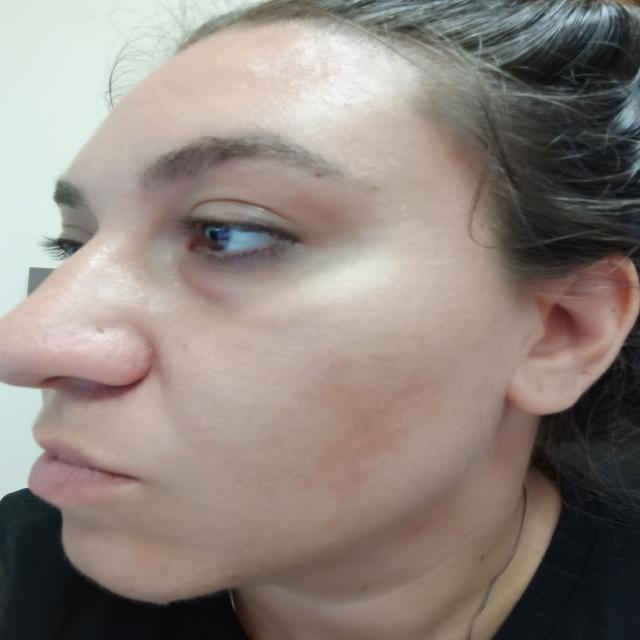Englarged-Pores: (26, 308, 140, 361)
Eyebags: (170, 260, 306, 307)
